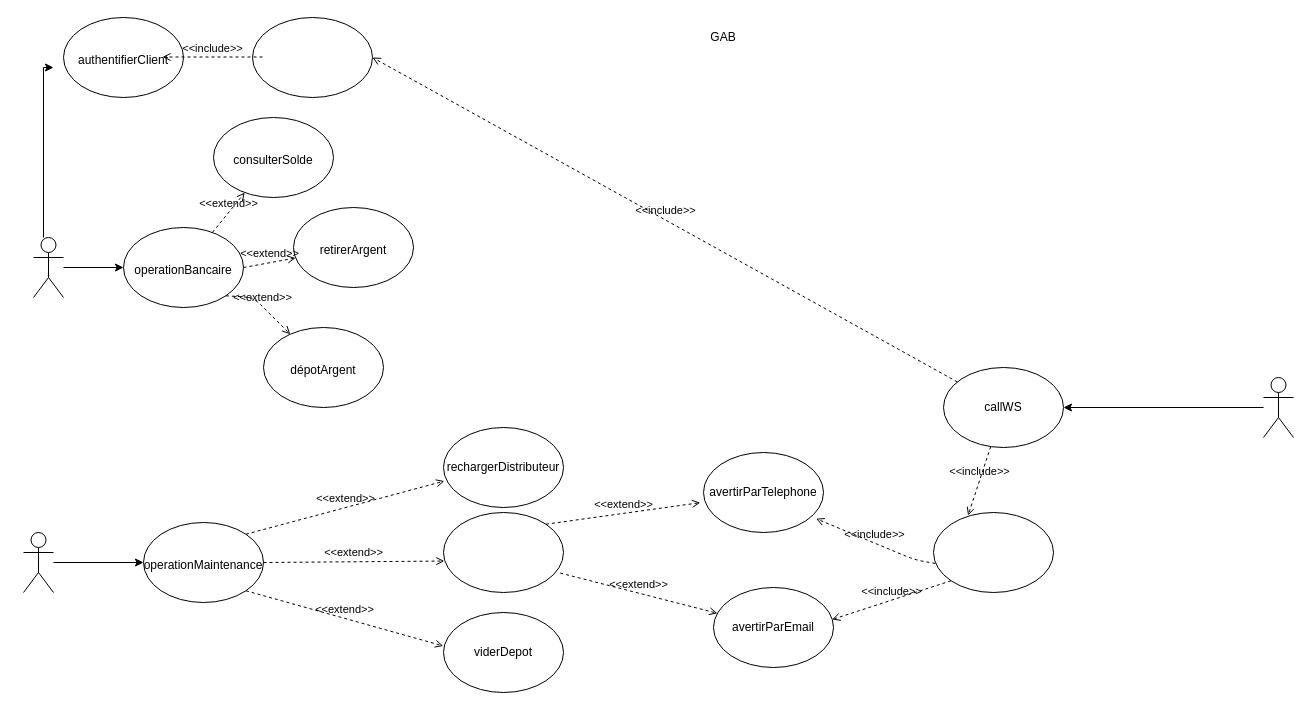
Image size: 1311x710. Some labels were removed from this diagram. Here are the shapes that lost their labels. From the top down, the box of each, then its label:
(252, 16, 372, 98): validerInformation
(32, 236, 64, 298): Client
(1262, 376, 1294, 438): CAL
(22, 532, 54, 592): GARDA
(442, 512, 564, 592): envoyerAvertissement
(932, 512, 1054, 592): getInformationBanque
